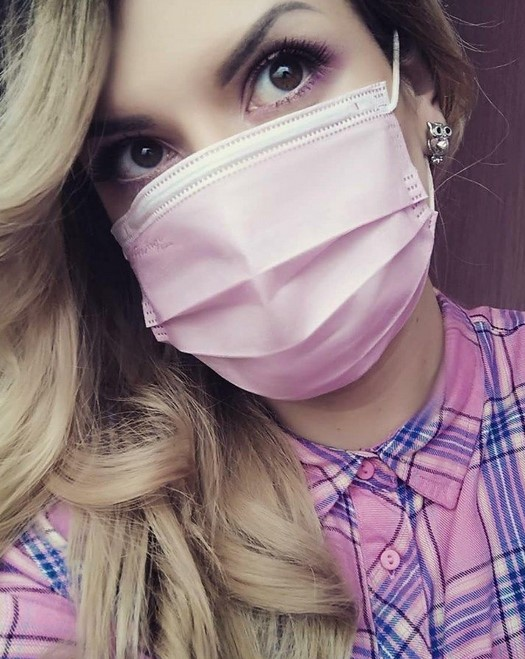face_with_mask: (13, 7, 480, 403)
